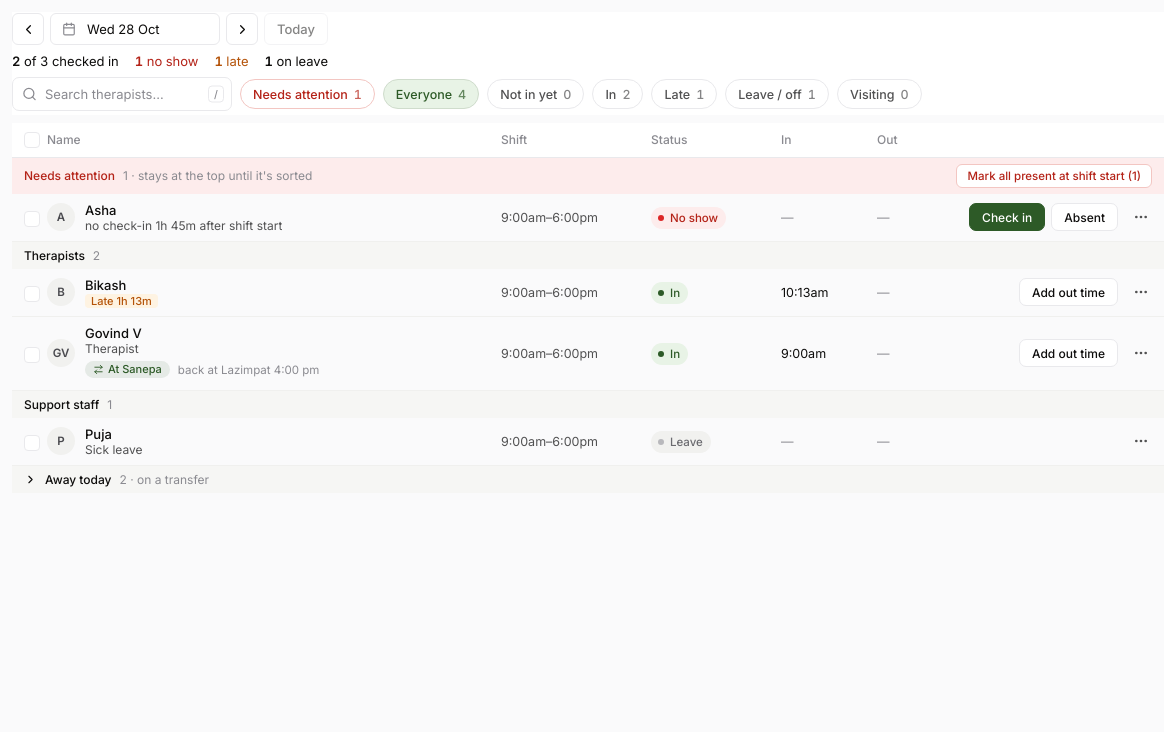
AttendancePanel › groups people, shows states, and lists the away person (with the transfer pill) in the collapsed Away group
Check: the text "Asha" is shown, box [85,202,116,218]
Check: the text "Late 1h 13m" is shown, box [85,294,158,308]
Click the button "Away today 2 · on a transfer": (117, 479) [24,472,209,486]
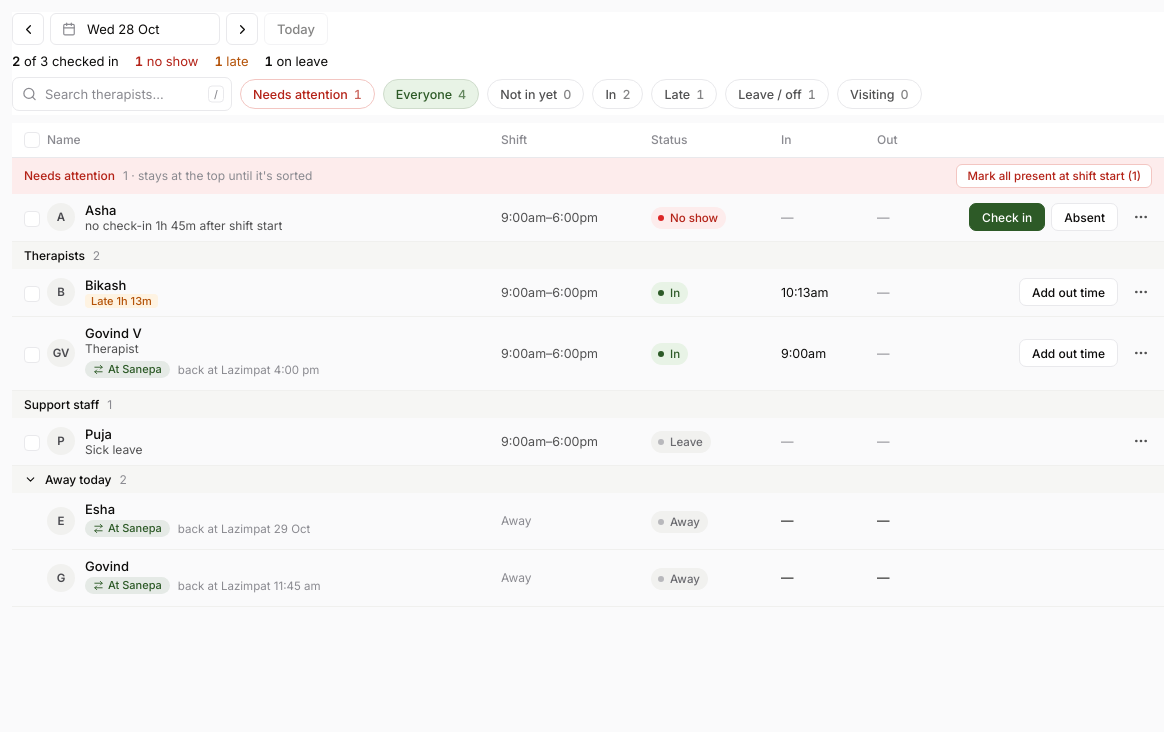
Check: the button "At Sanepa back at Lazimpat 4:00 pm" is shown, box [85,358,319,382]
Check: the text "Govind" is shown, box [85,558,129,574]
Check: the text "Esha" is shown, box [85,500,115,516]
